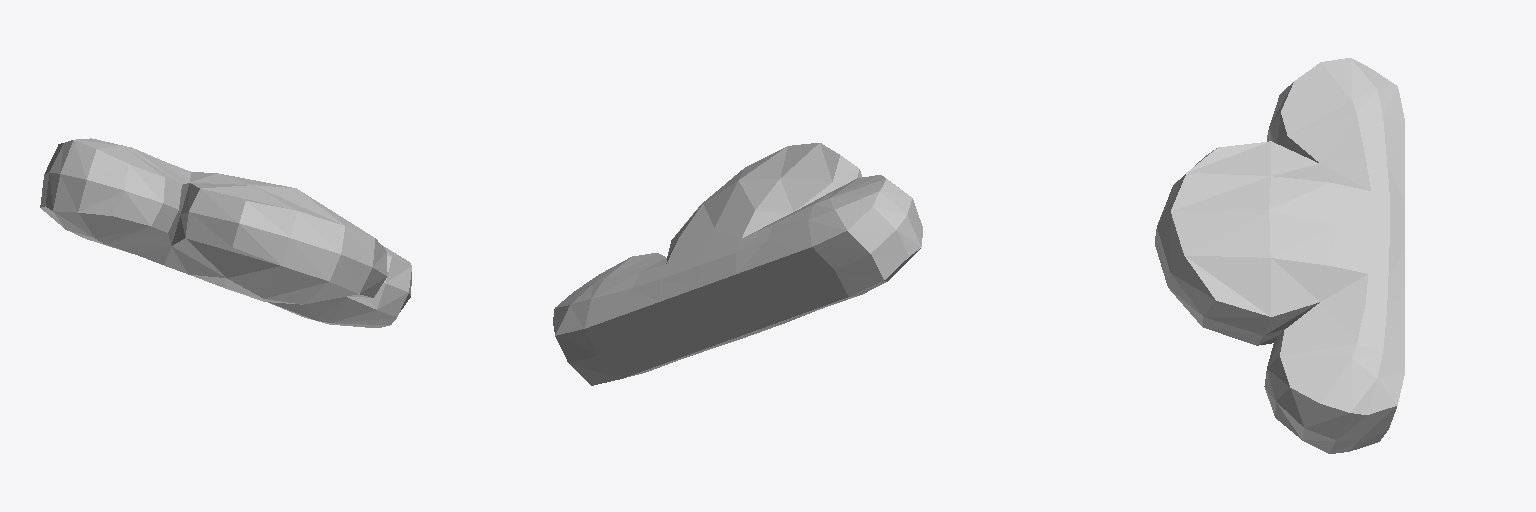
3 renders of one model, left to right at view 1: azimuth 30°, elevation 25°; view 2: azimuth 150°, elevation 25°; view 3: azimuth 270°, elevation 25°, orthographic.
Visible parts, largest first — view 1: clouds_01_Plane.006_clouds_01_Plane.008; view 2: clouds_01_Plane.006_clouds_01_Plane.008; view 3: clouds_01_Plane.006_clouds_01_Plane.008.
Boxes of the visible parts, x1,y1,x2,y2 form: clouds_01_Plane.006_clouds_01_Plane.008: [40, 138, 411, 327]; clouds_01_Plane.006_clouds_01_Plane.008: [553, 143, 922, 385]; clouds_01_Plane.006_clouds_01_Plane.008: [1155, 58, 1404, 453].
Bounding box in the file's own units: 2.14 × 1.45 × 1.3.